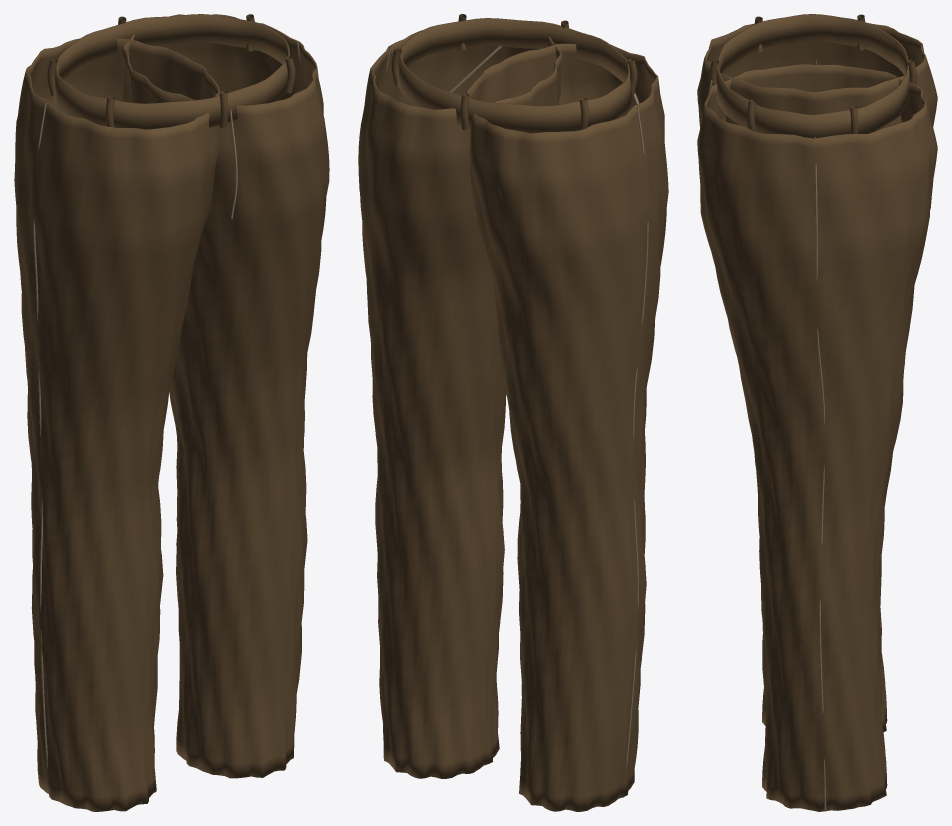
File: bottom-academy.glb
3 views of the same model, side by side, from view 1: azimuth 30°, elevation 25°; view 2: azimuth 150°, elevation 25°; view 3: azimuth 270°, elevation 25° (orthographic). The views are drawn at different scales.
Visible parts, largest first — view 1: Trouser leg; view 2: Trouser leg; view 3: Trouser leg.
Boxes of the visible parts, box(x1,y1,x2,y2) form: Trouser leg: box(14, 14, 329, 811); Trouser leg: box(358, 14, 668, 811); Trouser leg: box(697, 14, 937, 811).
Size of the model in its own units: 0.401 by 1 by 0.3134.
Materials: 2 (1 with a texture image).
